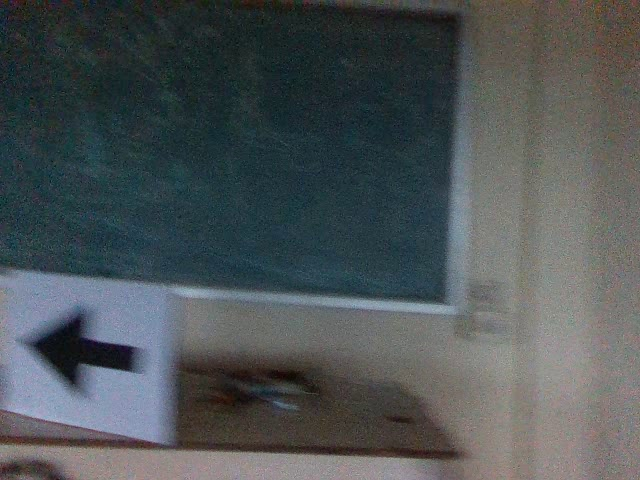Left: (12, 295, 149, 403)
